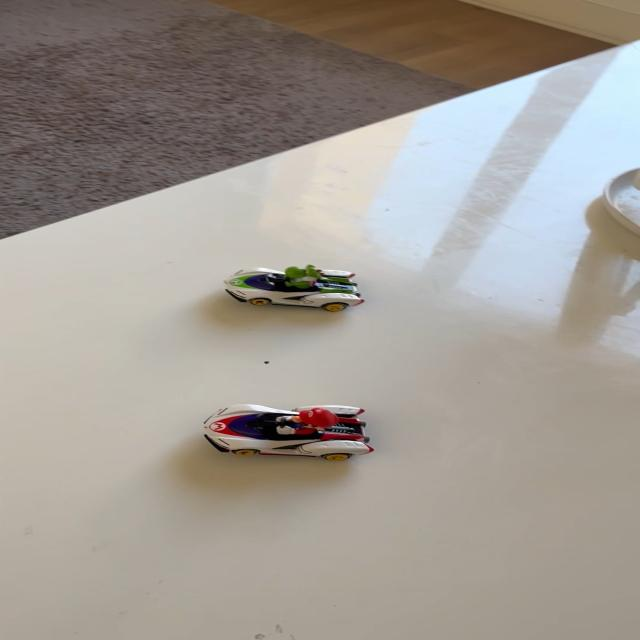mario: (198, 399, 380, 461)
yoshi: (215, 254, 375, 314)
